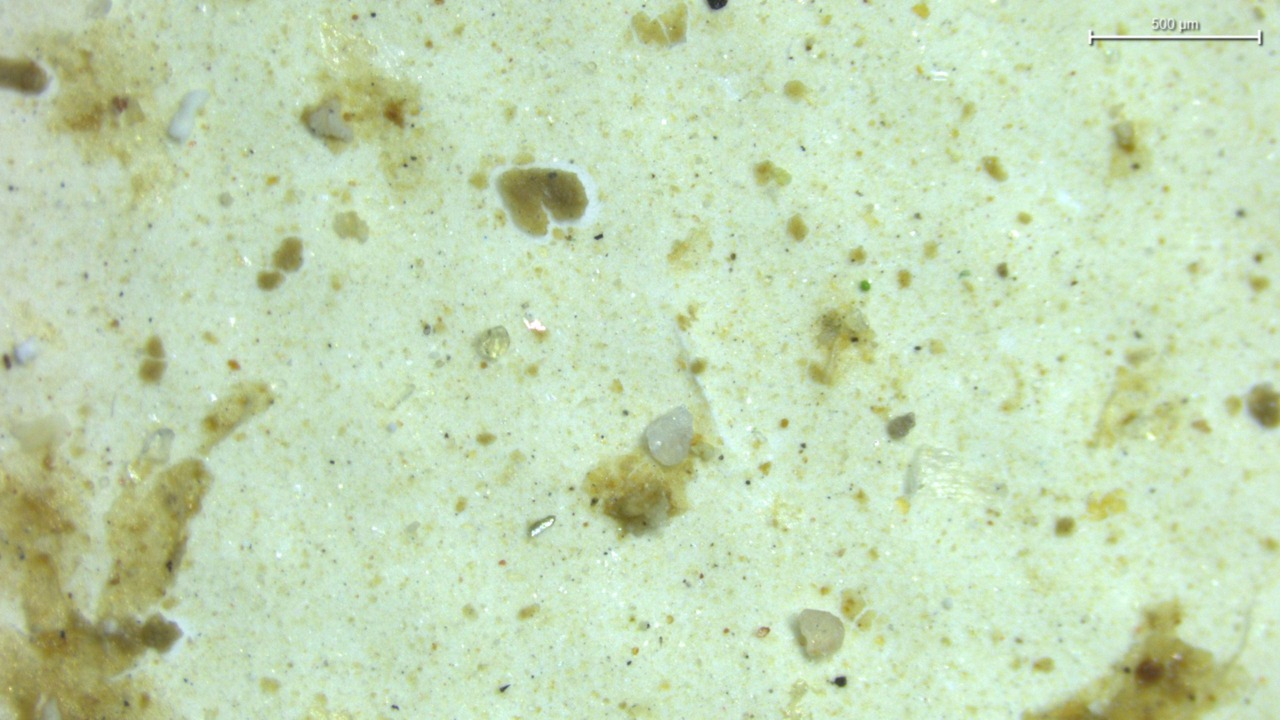microplastic_fragment: (645, 405, 693, 466), (797, 609, 844, 659), (167, 90, 208, 143), (308, 99, 352, 141), (476, 326, 510, 359)
